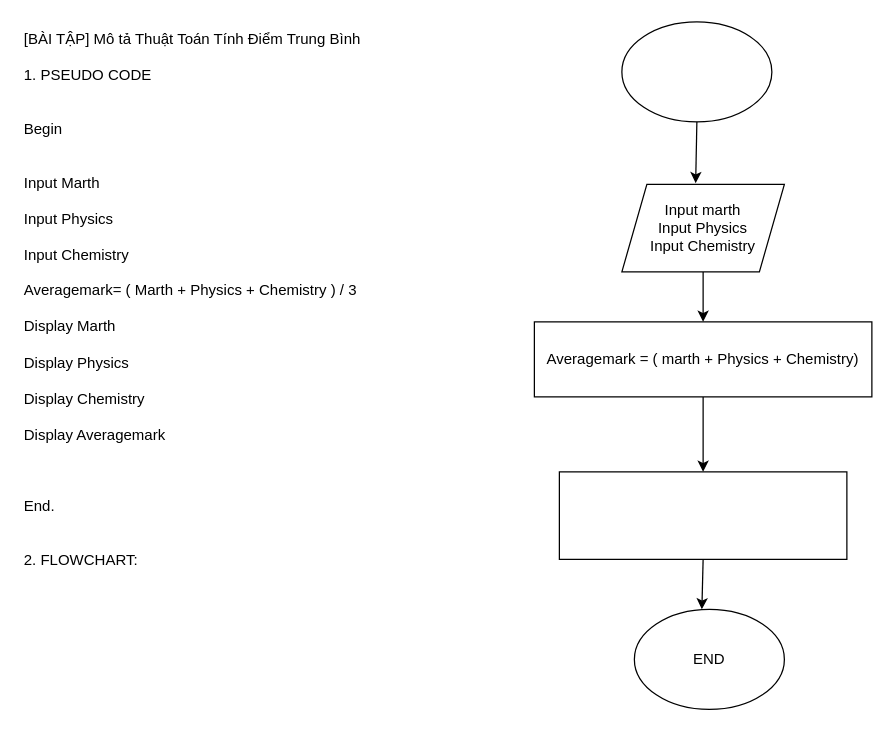
The diagram is 894 pixels wide and 731 high, and some of its shapes have lost their labels. The shapes that lost their labels are listed below. From the top down, each one's box as (x1, y1, x2, y2) in pixels, then its label:
(621, 21, 772, 122): Start
(558, 471, 847, 559): Display marth Display Physics Display Chemistry
